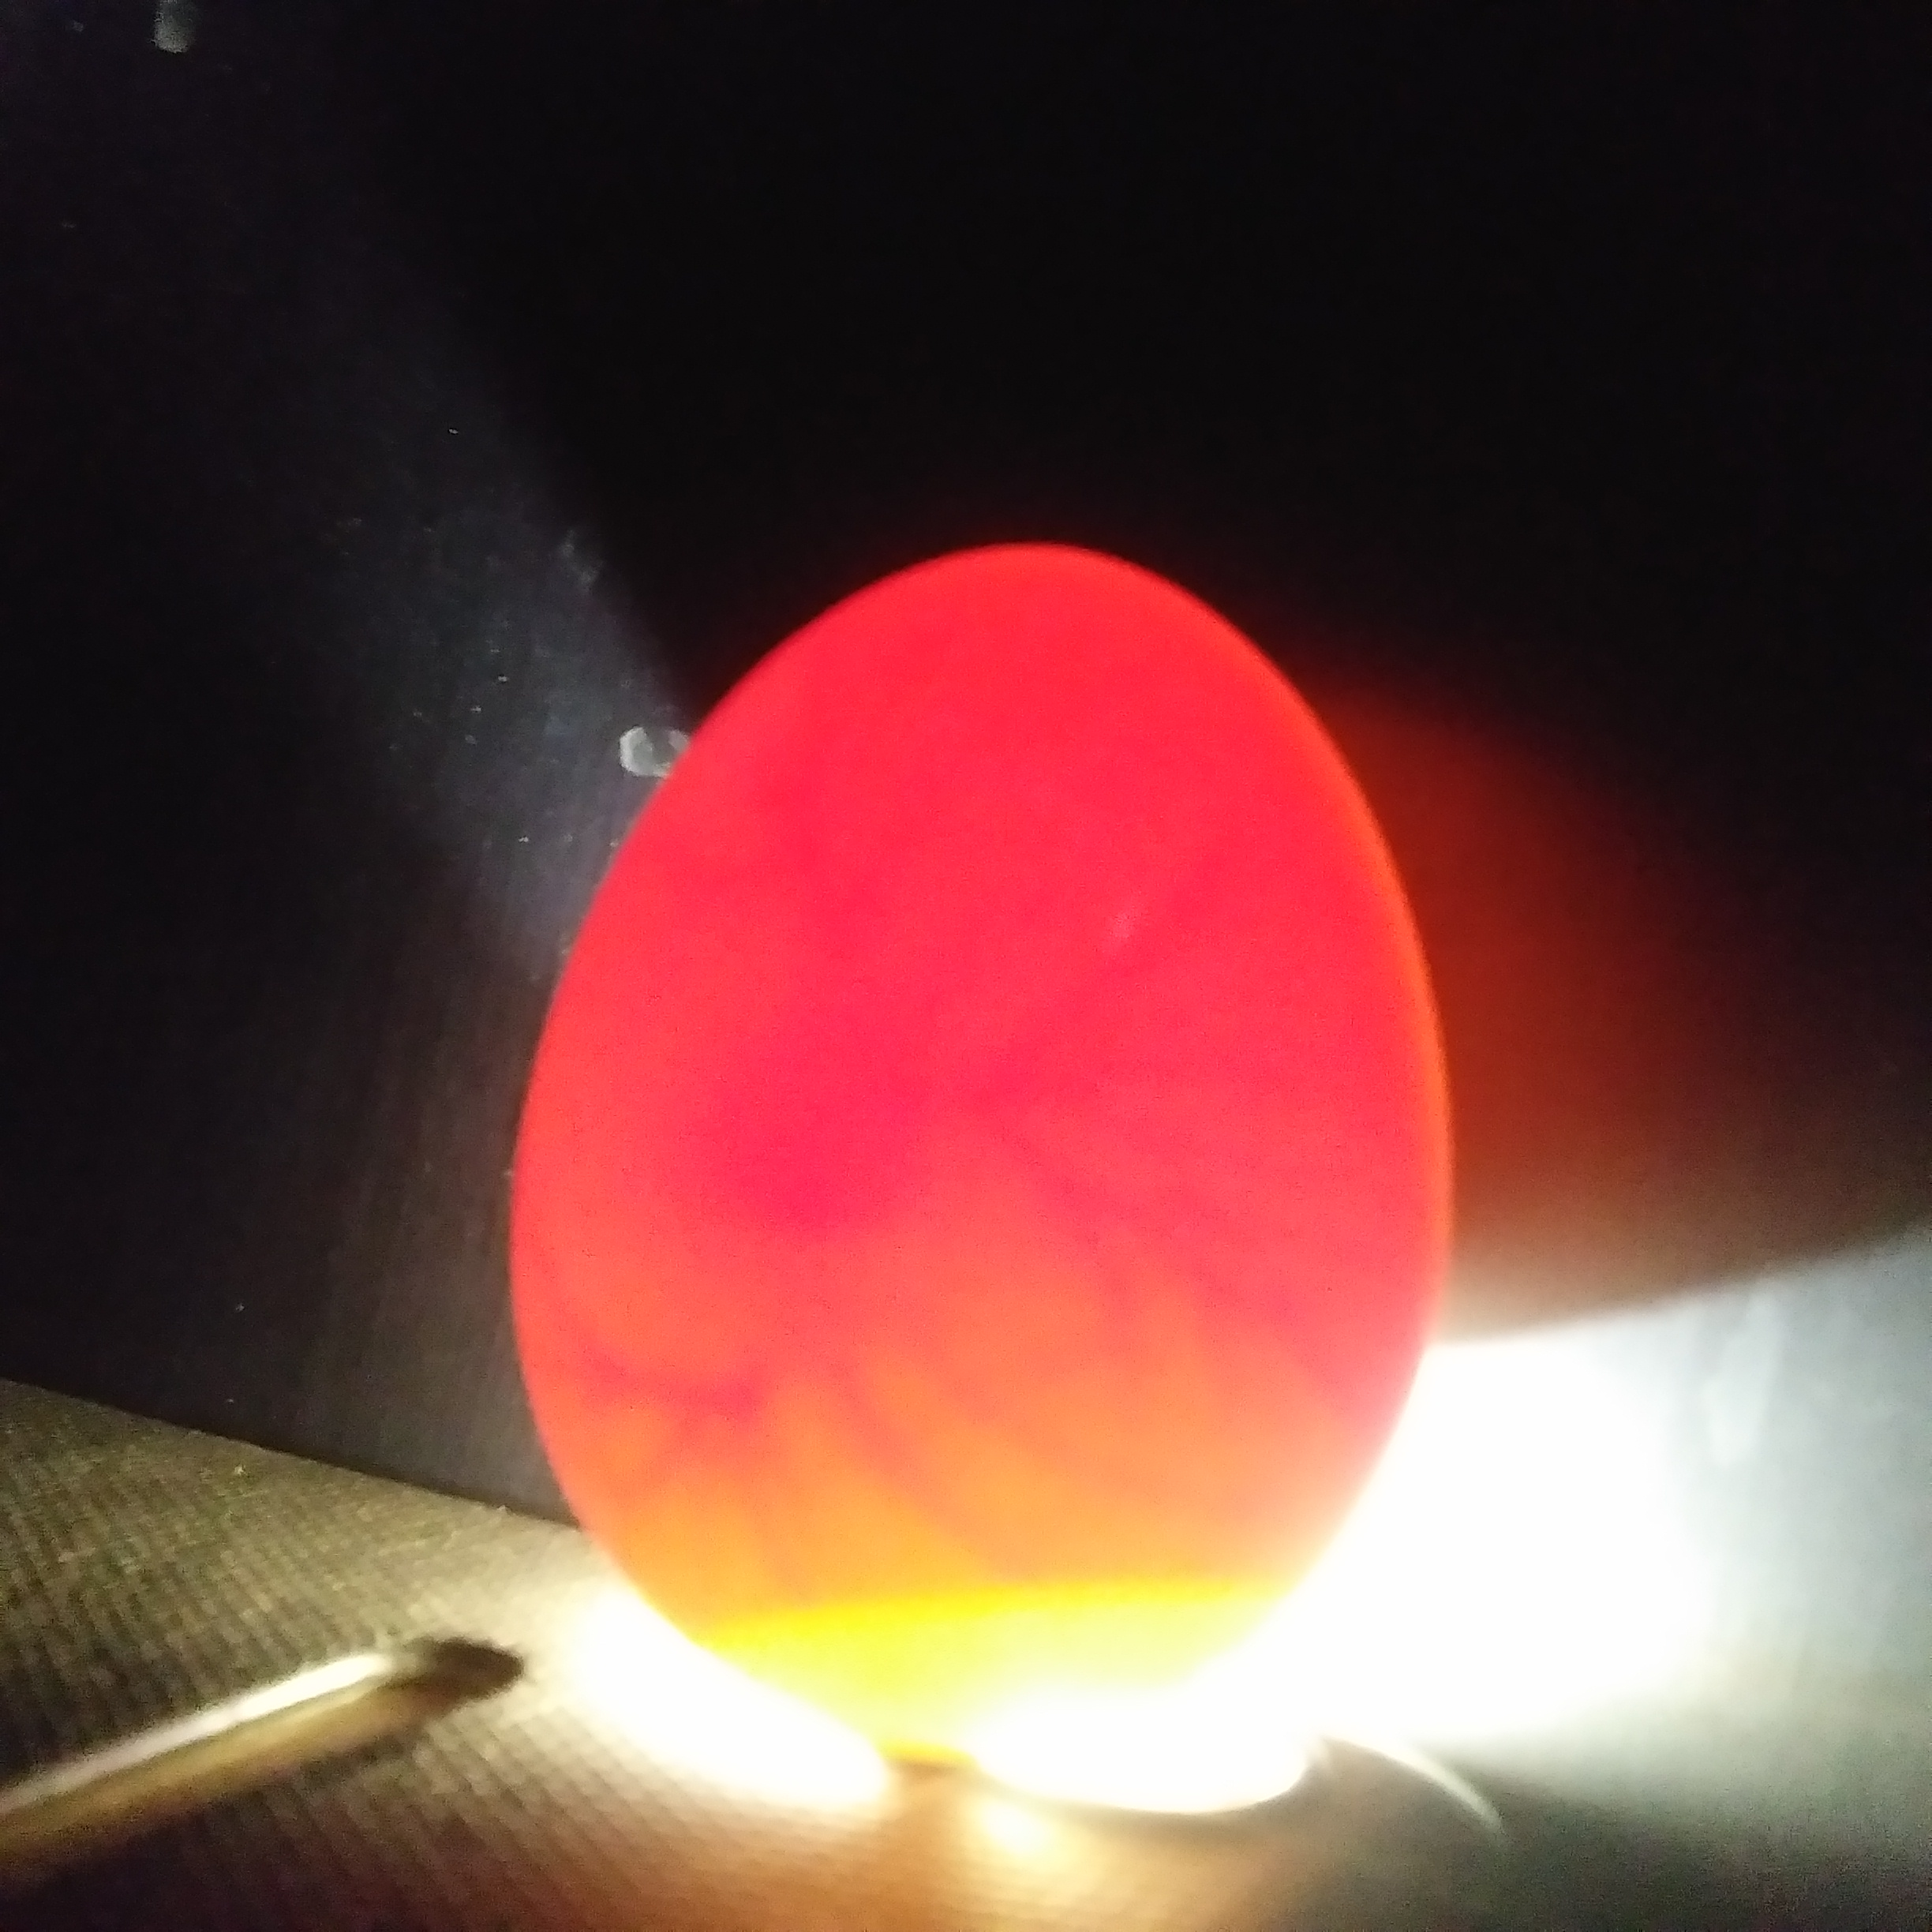bloodcell: (989, 1010, 1336, 1548), (533, 1295, 939, 1553)
